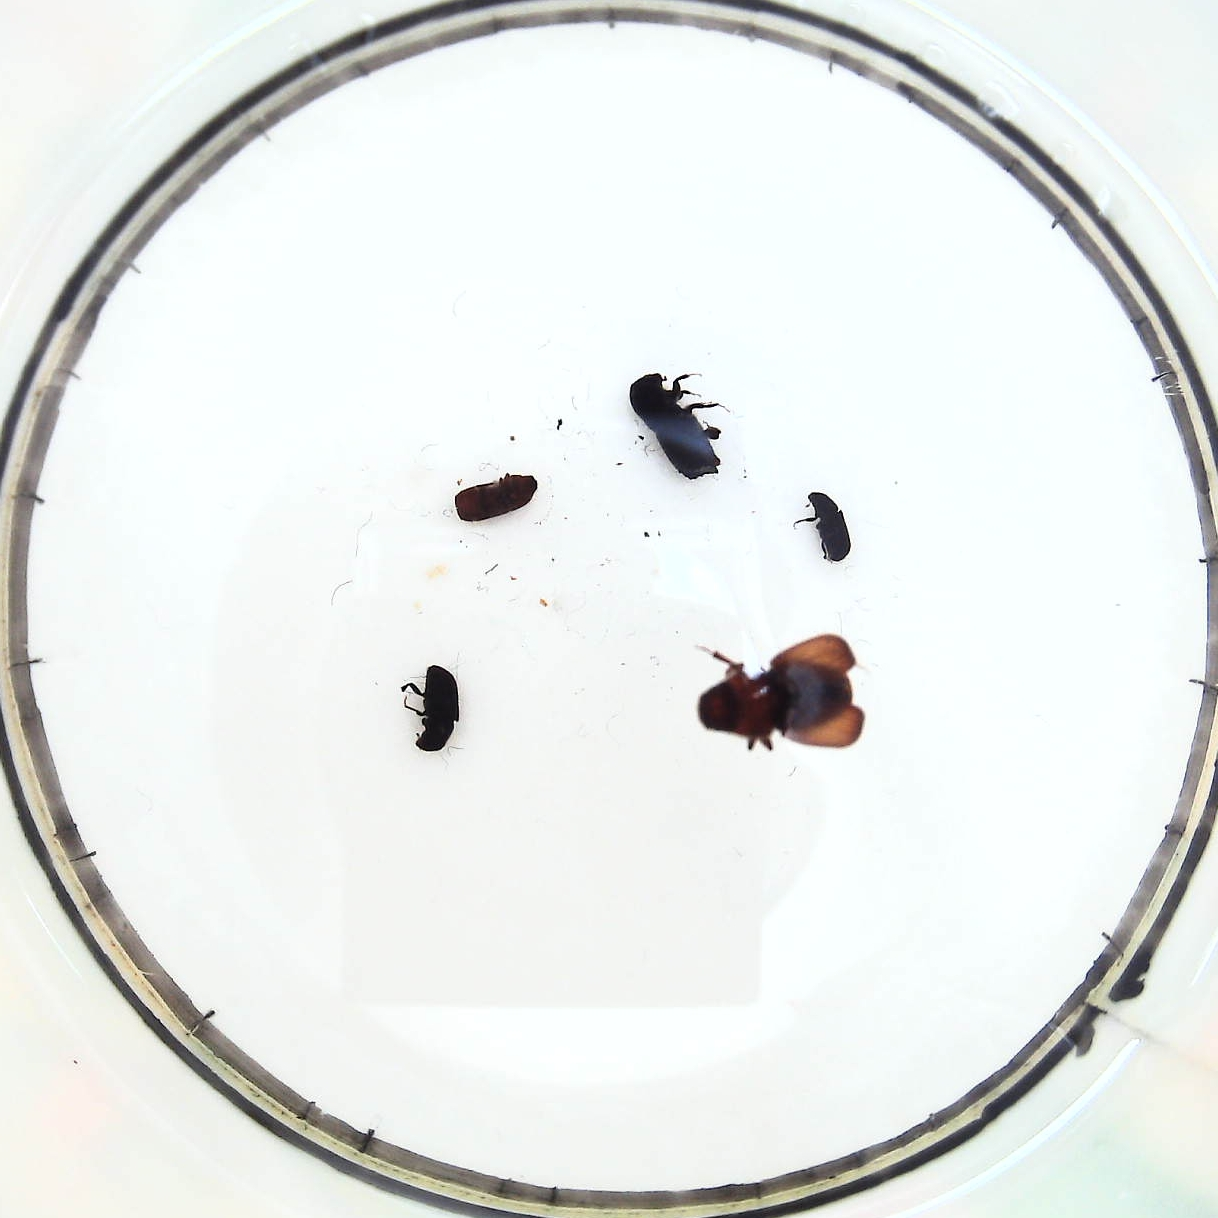Boerner: (628, 373, 723, 480)
Leconte: (697, 634, 867, 754)
Linnaeus: (453, 474, 540, 519)
armandi: (412, 663, 462, 754)
coleoptera: (806, 490, 850, 565)
